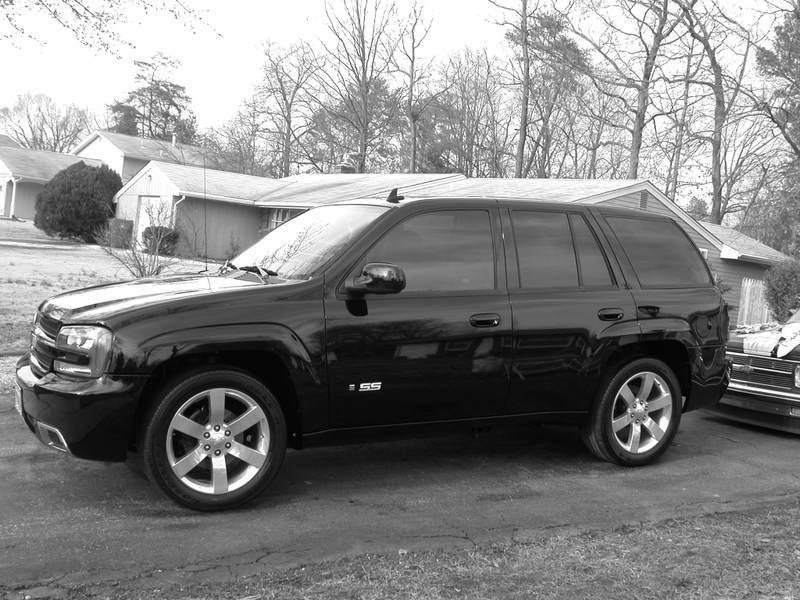car: (13, 184, 739, 523)
